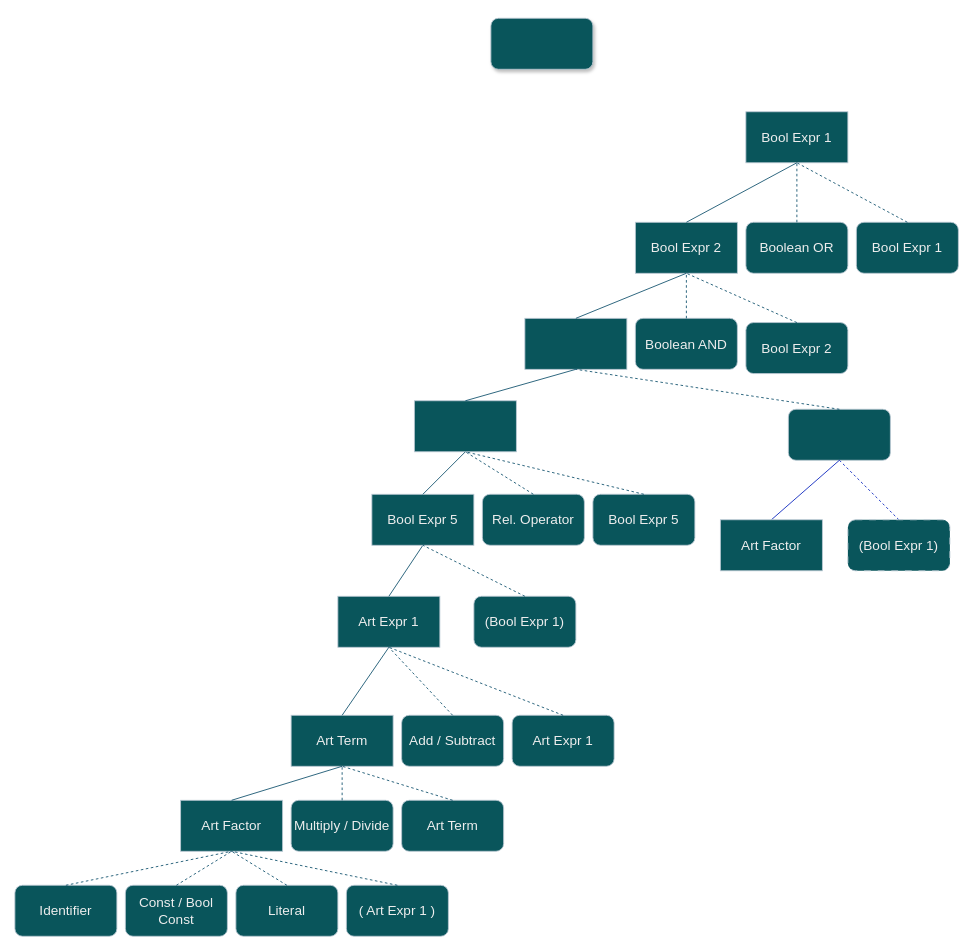
This 973x951 diagram has some shape labels left out. Here are the shapes that lost their labels. From the top down, the centre of each, then its label:
At (x=542, y=44): "Root".
At (x=575, y=343): "Bool Expr 3".
At (x=465, y=426): "Bool Expr 4".
At (x=839, y=434): "Boolean NOT".
